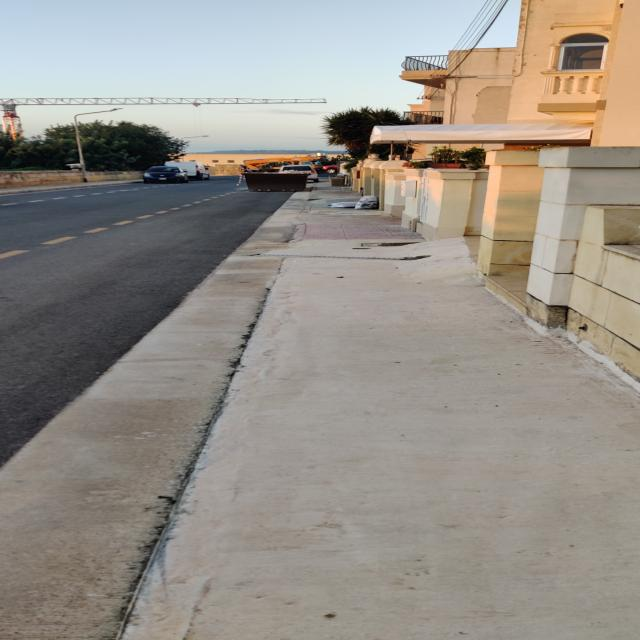Others Waste: (328, 175, 351, 187)
Recyclable Material -Grey Bags-: (325, 195, 381, 210)
